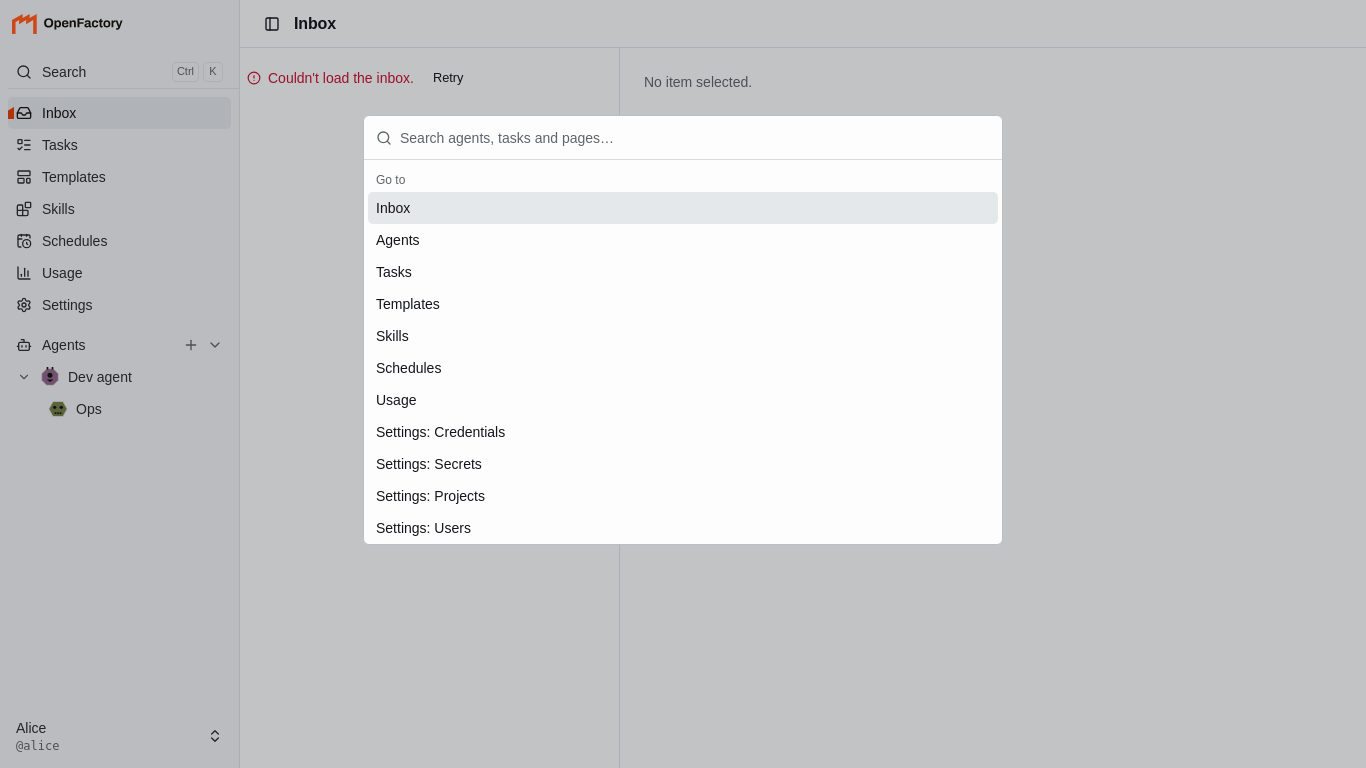
title search fires once after 150ms debounce with status=all&limit=20; Tasks group is last; stale rows can't be committed
Earlier steps of the test are not shown.
Later steps or results of the test are not shown.
In the dropdown: (695, 138) x1=400 y1=116 x2=990 y2=159, type "depl"
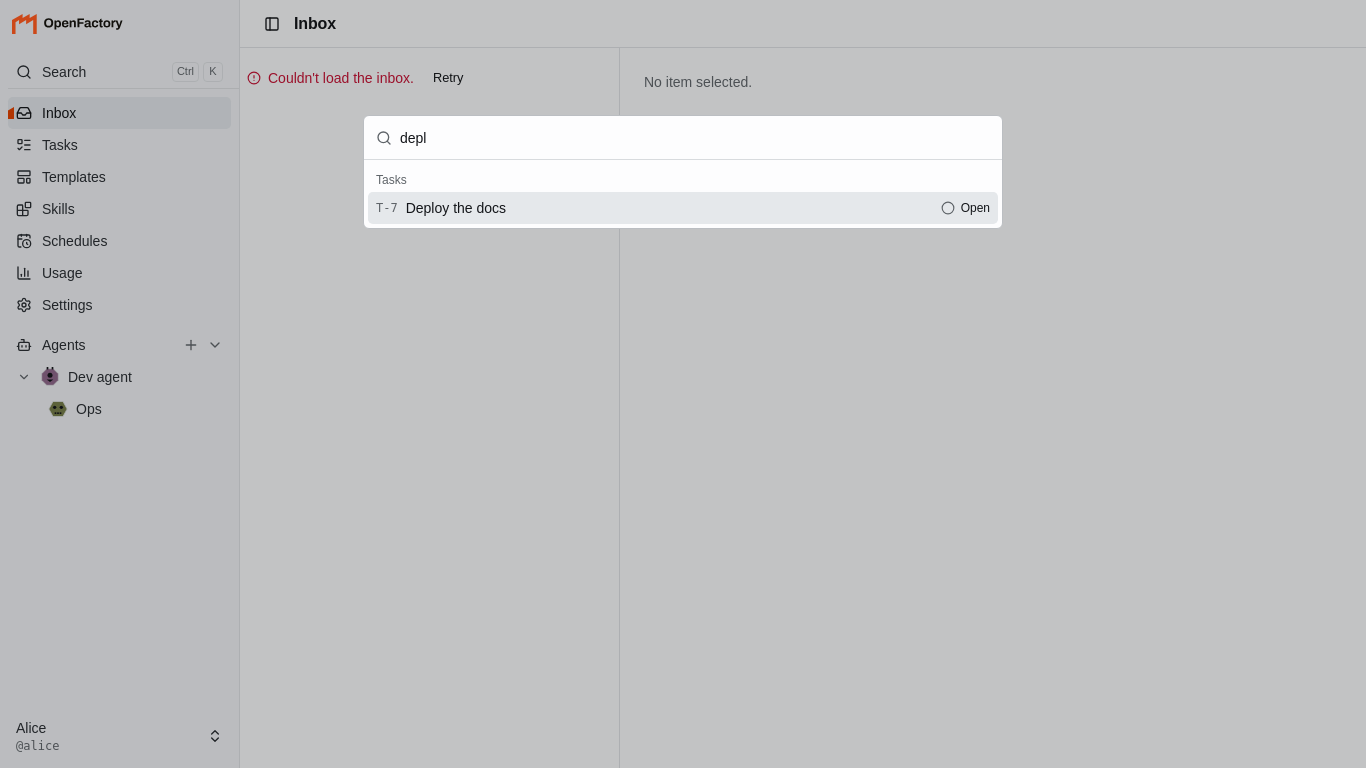
Now the text "Tasks" is shown, box x1=376 y1=173 x2=407 y2=187
Now the text "Deploy the docs" is shown, box x1=406 y1=200 x2=506 y2=216
